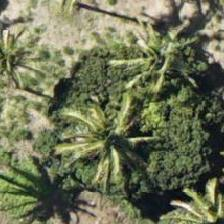coconut_tree: (109, 9, 199, 99), (65, 95, 155, 185), (0, 0, 46, 80), (160, 165, 223, 223)
